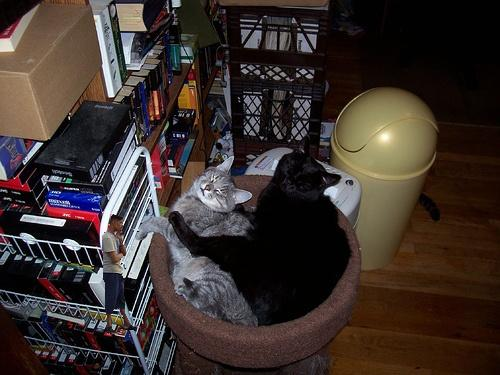tampered: (103, 215, 136, 334)
